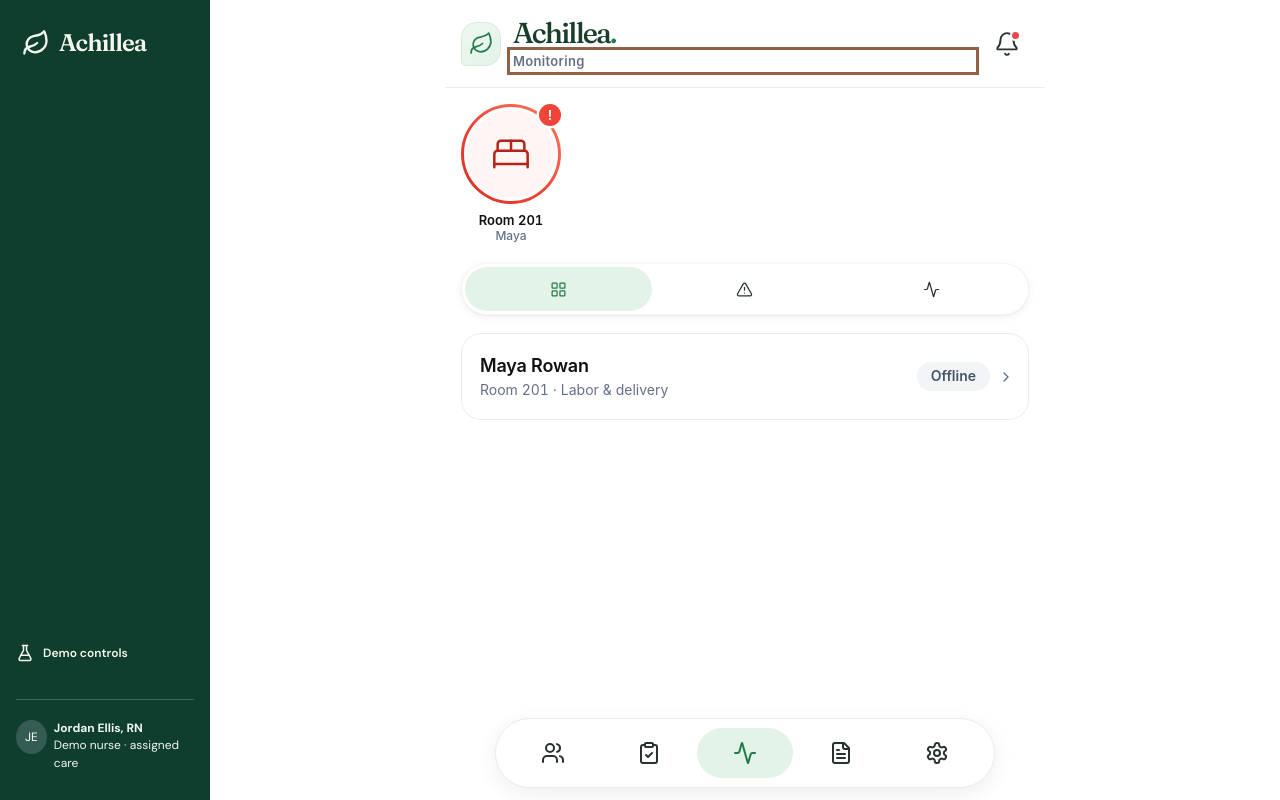
Test case: Mobile navigation › opens on Monitoring and provides five icon tabs: Patients, Tasks, Monitoring, Handoff, Settings
Later steps or results of the test are not shown.
Expected: the heading "Monitoring" is shown, [513,53,585,69]
Click the link named "Settings". click: click(937, 753)
box: [925,741,949,765]
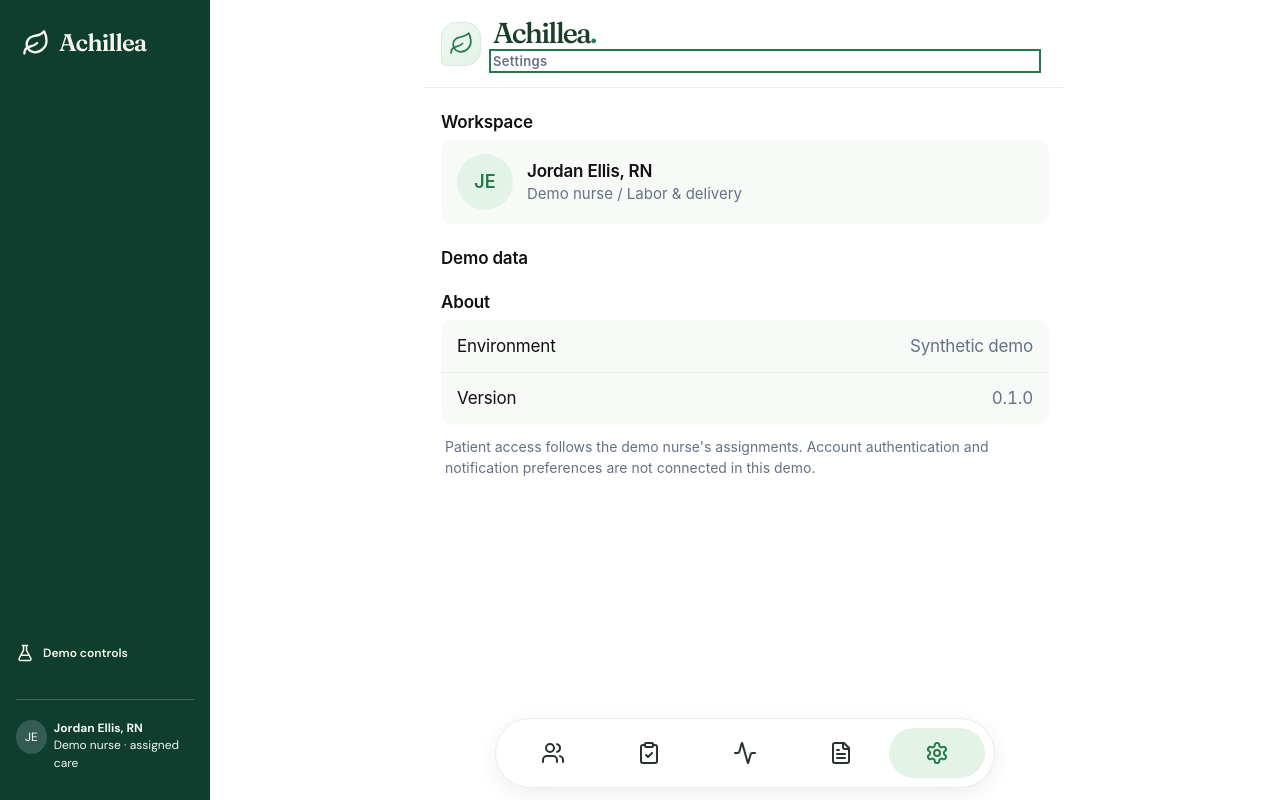
Expected: the heading "Settings" is shown, [493,53,548,69]
Click the link named "Tasks". click: click(649, 753)
box: [637,741,661,765]
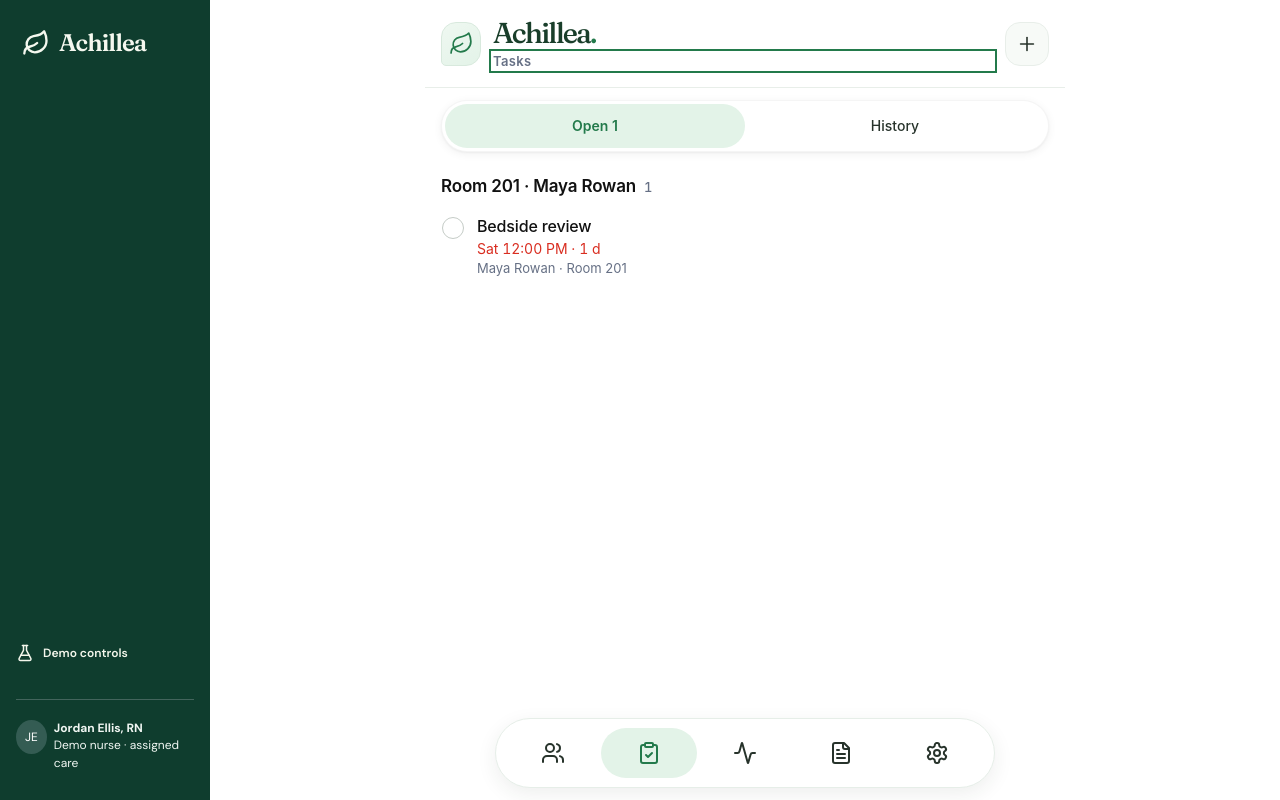
Expected: the text "Past scheduled due time" is not shown
Expected: the heading "Room 201 · Maya Rowan 1" is shown, [441,176,652,196]
Click the button "Bedside review Sat 12:00 PM · 1 d Maya Rowan · Room 201". click: click(534, 226)
box: [477,204,1049,278]
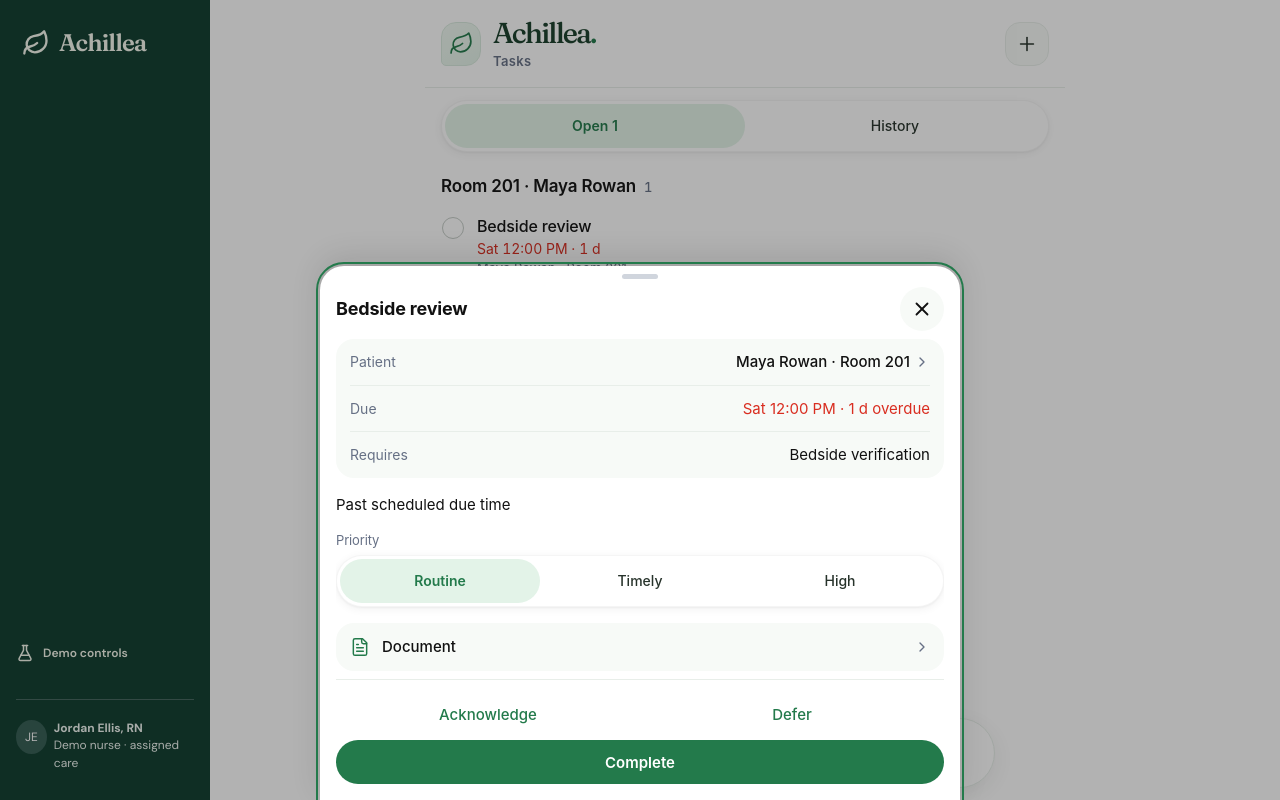
Expected: the text "Past scheduled due time" is shown, [336,495,510,514]
